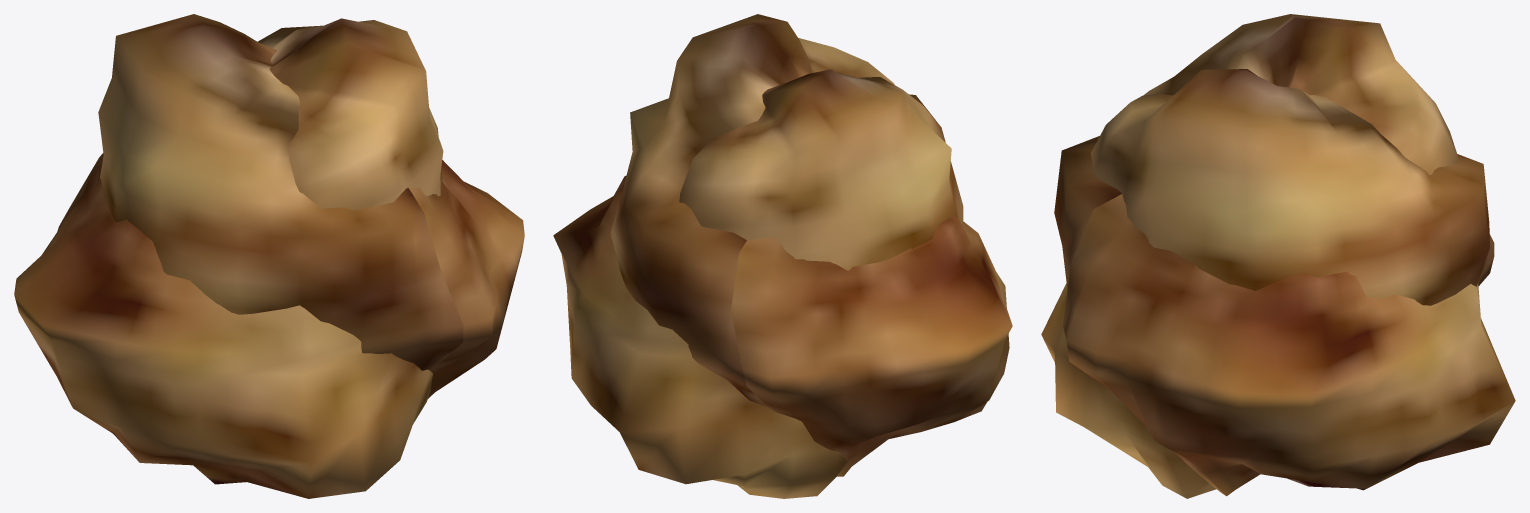
Rendered from karaage.fbx.
3 views of the same model, side by side, from view 1: azimuth 30°, elevation 25°; view 2: azimuth 150°, elevation 25°; view 3: azimuth 270°, elevation 25° (orthographic). The views are drawn at different scales.
Visible parts, largest first — view 1: pSphere4; view 2: pSphere4; view 3: pSphere4.
Part boxes in pixels (box(x1,y1,x2,y2)): pSphere4: box(14, 14, 524, 498); pSphere4: box(553, 14, 1012, 498); pSphere4: box(1041, 14, 1515, 498).
Size of the model in its own units: 2.54 by 2.28 by 2.27.
1 material, 1 textured.
